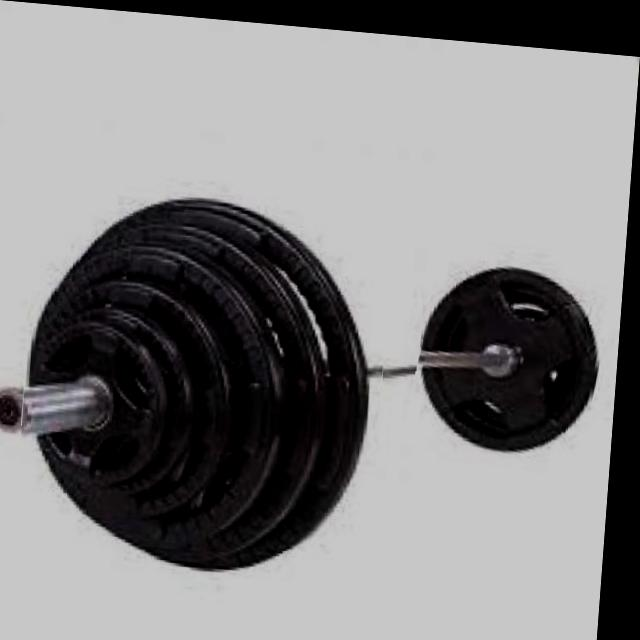barbell: (19, 170, 401, 589), (415, 236, 620, 467)
